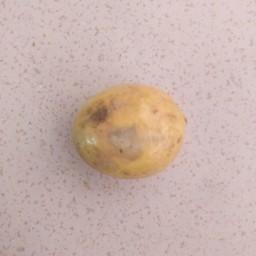Bad_lime: (67, 81, 188, 181)
